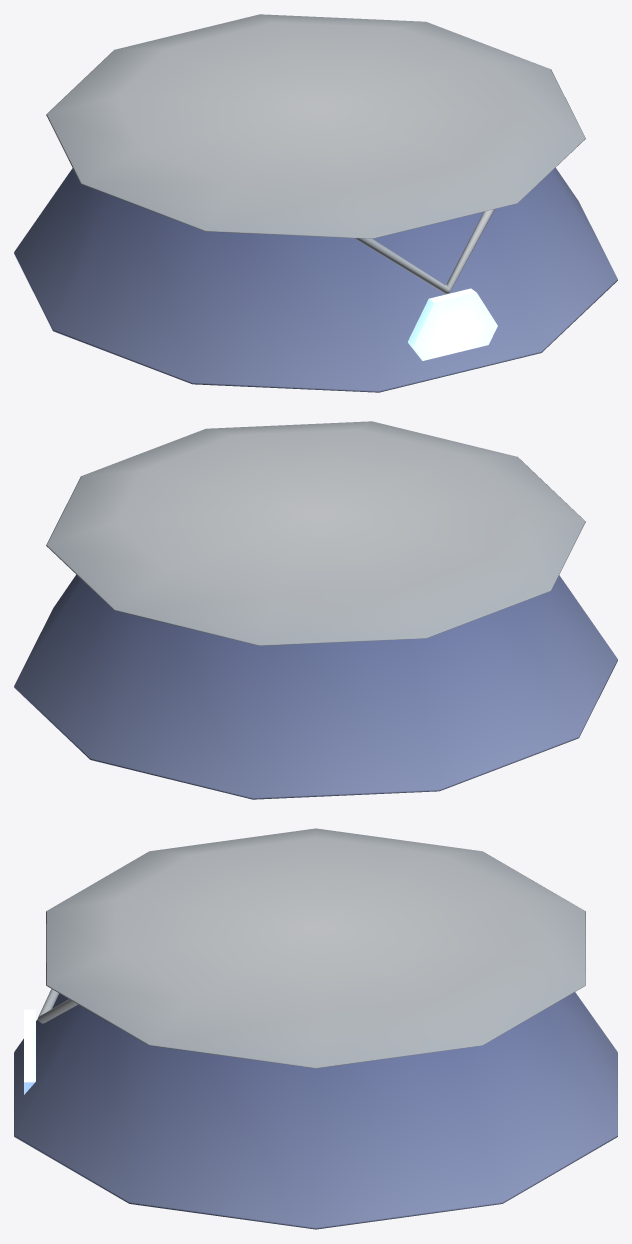
The model's file is spirit_robe.glb.
The picture shows the model from 3 angles, top to bottom: view 1: azimuth 30°, elevation 25°; view 2: azimuth 150°, elevation 25°; view 3: azimuth 270°, elevation 25°; orthographic projection. The views are drawn at different scales.
Parts seen in each view (by area): view 1: spirit_robe, spirit_robe_glow; view 2: spirit_robe; view 3: spirit_robe, spirit_robe_glow.
Boxes of the visible parts, x1=… form: spirit_robe: x1=14, y1=14, x2=617, y2=392; spirit_robe_glow: x1=408, y1=288, x2=497, y2=379; spirit_robe: x1=14, y1=421, x2=617, y2=799; spirit_robe: x1=14, y1=828, x2=617, y2=1229; spirit_robe_glow: x1=24, y1=1009, x2=35, y2=1094.
Bounding box in the file's own units: 2.11 × 0.6372 × 2.01.
